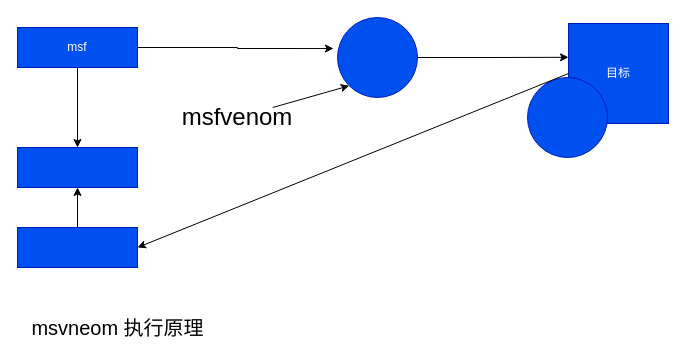
This 686x357 diagram has some shape labels left out. Here are the shapes that lost their labels. From the top down, the centre of each, then its label:
[77,167]: 监听模块
[77,247]: payload
